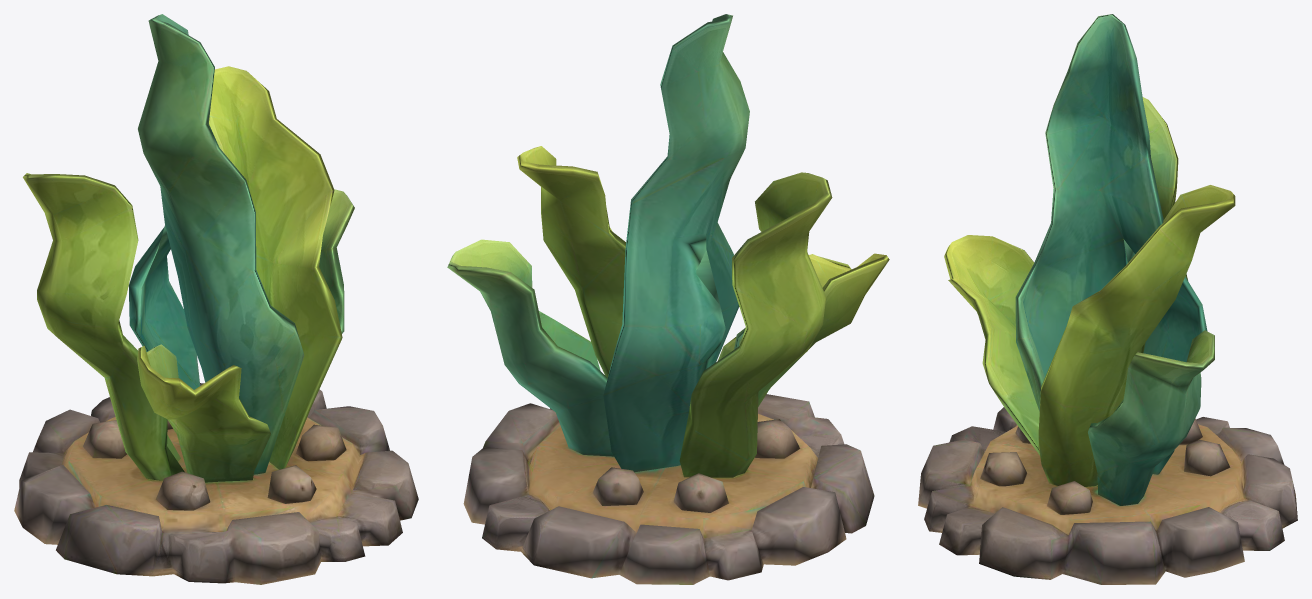
The model's file is Emerald_Seaweed_Grove.glb.
The picture shows the model from 3 angles, left to right: view 1: azimuth 30°, elevation 25°; view 2: azimuth 150°, elevation 25°; view 3: azimuth 270°, elevation 25°; orthographic projection. The views are drawn at different scales.
Parts seen in each view (by area): view 1: mesh_node; view 2: mesh_node; view 3: mesh_node.
Boxes of the visible parts, <box> form: mesh_node: <box>14,14,418,584</box>; mesh_node: <box>447,14,889,584</box>; mesh_node: <box>918,14,1297,584</box>.
Size of the model in its own units: 0.7402 by 1 by 0.7422.
Materials: 1 (1 with a texture image).
